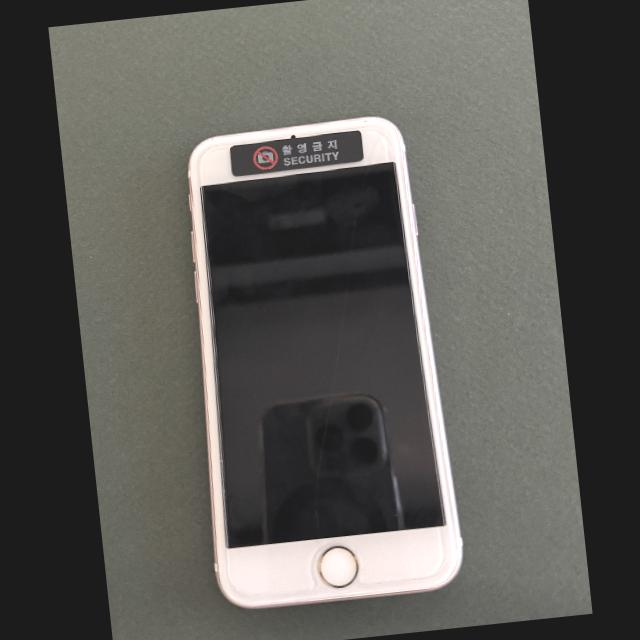lens: (290, 135, 295, 138)
phone: (188, 117, 462, 607)
sticker: (229, 130, 363, 176)
